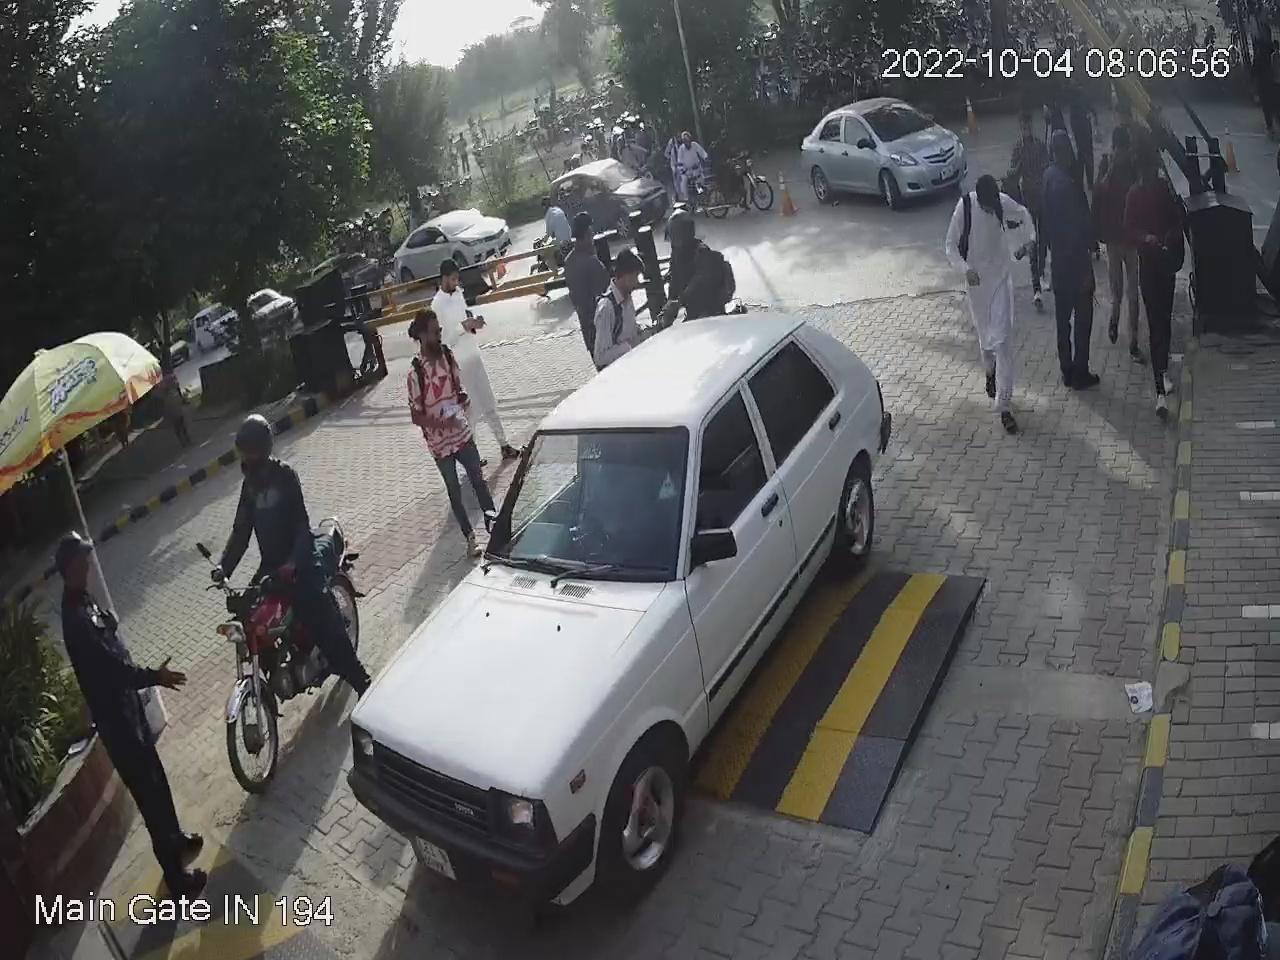windshield: (481, 425, 706, 595)
